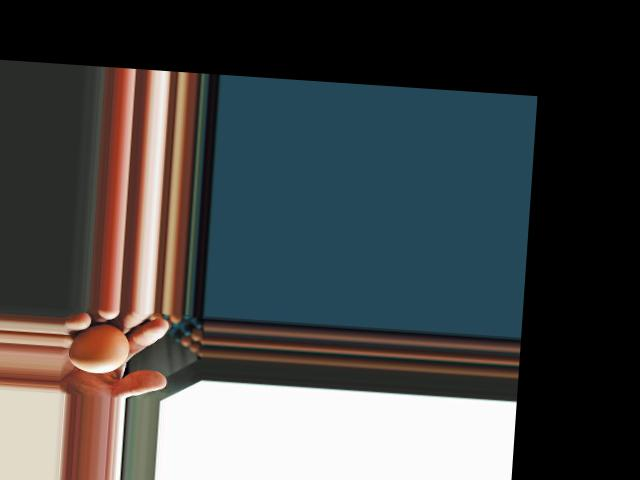egg: (65, 320, 130, 374)
